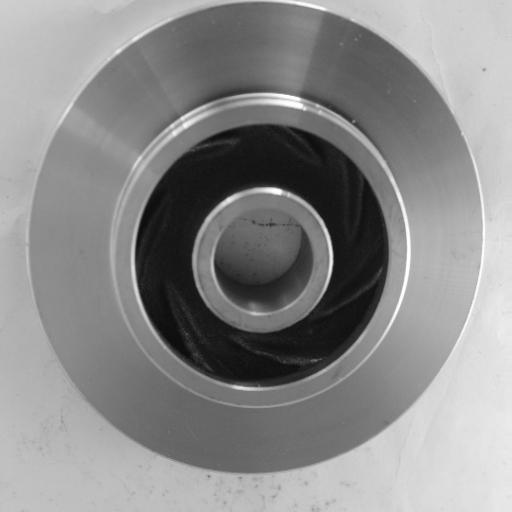polished_casting: (28, 0, 483, 474)
